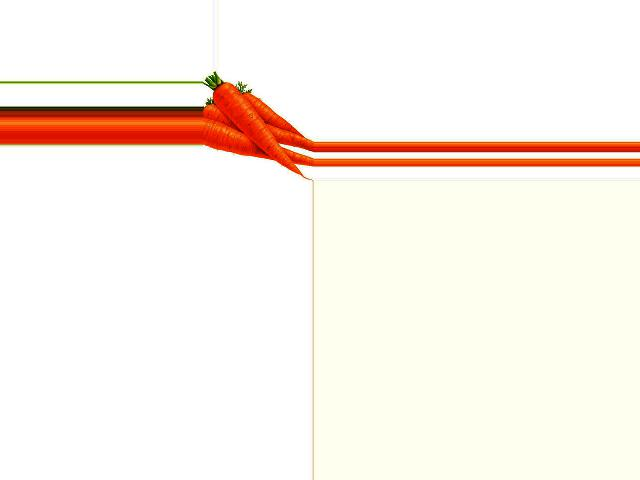carrot: (202, 119, 287, 153)
